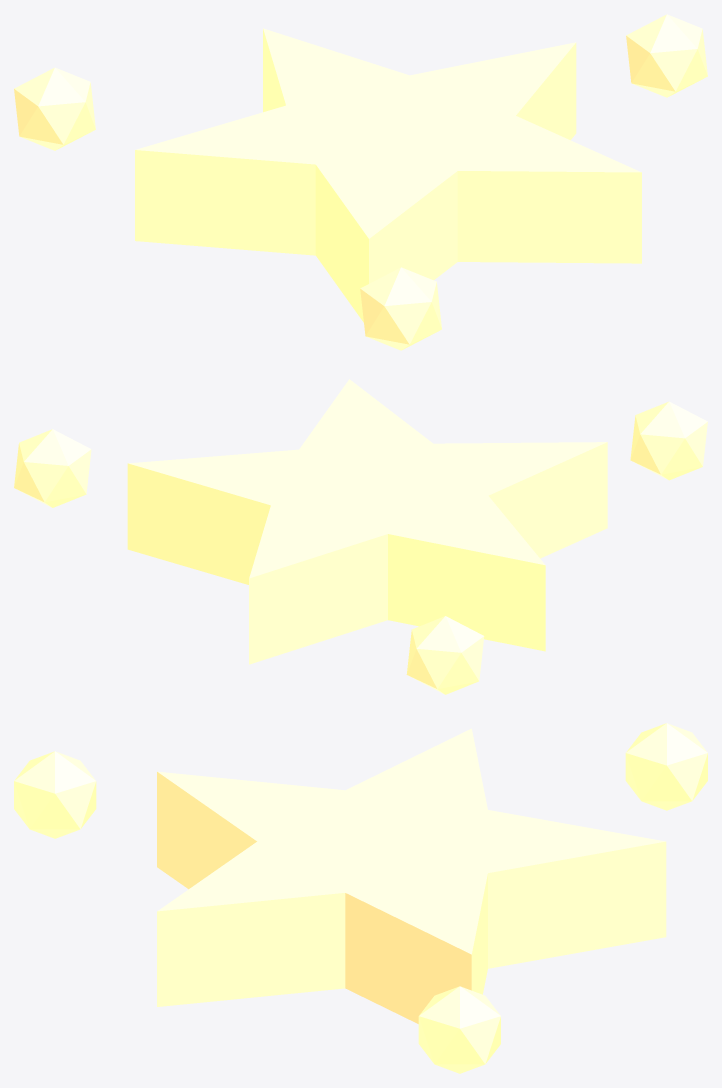
Rendered from food_stardust.glb.
3 renders of one model, top to bottom at view 1: azimuth 30°, elevation 25°; view 2: azimuth 150°, elevation 25°; view 3: azimuth 270°, elevation 25°, orthographic. The views are drawn at different scales.
Parts seen in each view (by area): view 1: Stardust | five point star, Orbit grain 02, Orbit grain 00, Orbit grain 01; view 2: Stardust | five point star, Orbit grain 00, Orbit grain 01, Orbit grain 02; view 3: Stardust | five point star, Orbit grain 01, Orbit grain 02, Orbit grain 00.
Part boxes in pixels (x1,y1,x2,y2): Stardust | five point star: [135, 28, 641, 322]; Orbit grain 02: [360, 267, 441, 350]; Orbit grain 00: [626, 14, 707, 97]; Orbit grain 01: [14, 67, 95, 150]; Stardust | five point star: [127, 379, 607, 664]; Orbit grain 00: [14, 429, 91, 507]; Orbit grain 01: [406, 616, 484, 694]; Orbit grain 02: [630, 401, 707, 480]; Stardust | five point star: [157, 728, 666, 1023]; Orbit grain 01: [625, 723, 707, 810]; Orbit grain 02: [14, 751, 96, 838]; Orbit grain 00: [418, 986, 500, 1073].
Bounding box in the file's own units: 0.8063 × 0.135 × 0.789.
